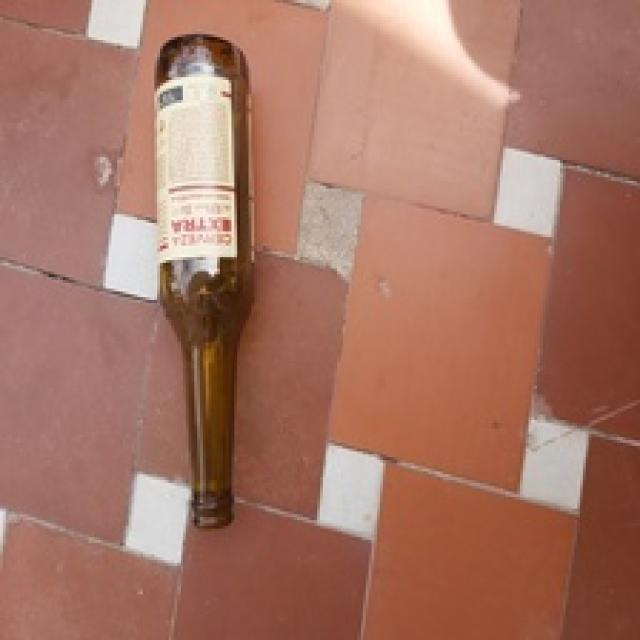Glass: (154, 32, 256, 531)
